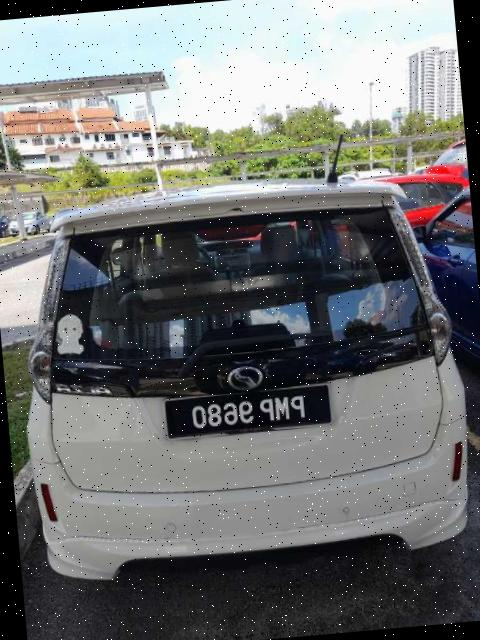License_Plate: (163, 382, 334, 439)
car: (7, 162, 480, 588)
